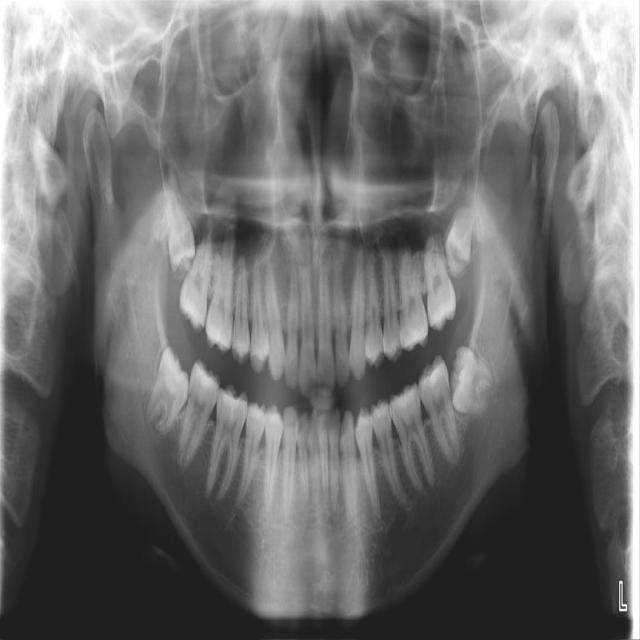impacted tooth: (149, 348, 190, 435), (163, 175, 195, 271), (452, 349, 497, 414), (445, 186, 474, 273)
